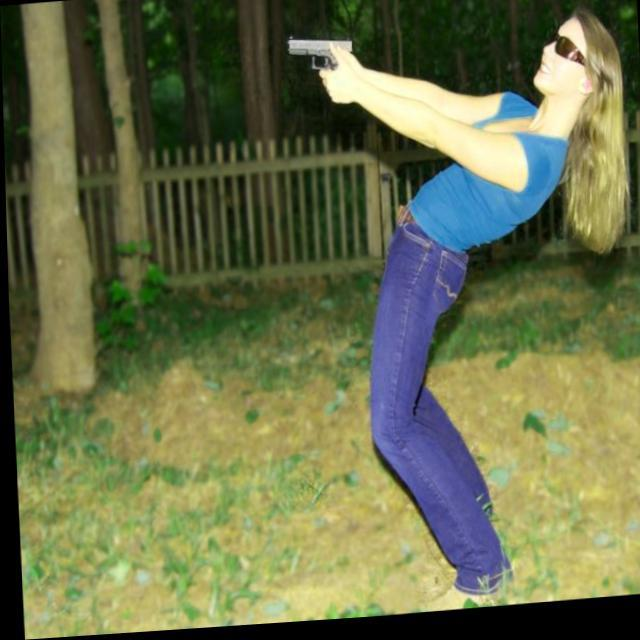weapon: (284, 34, 352, 80)
